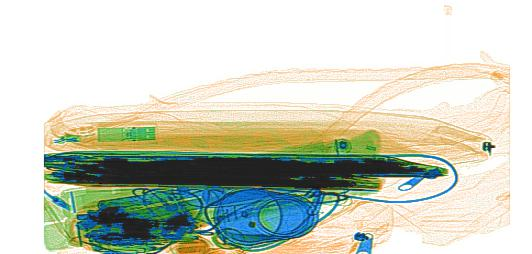USBFlashDisk: (93, 125, 160, 144)
